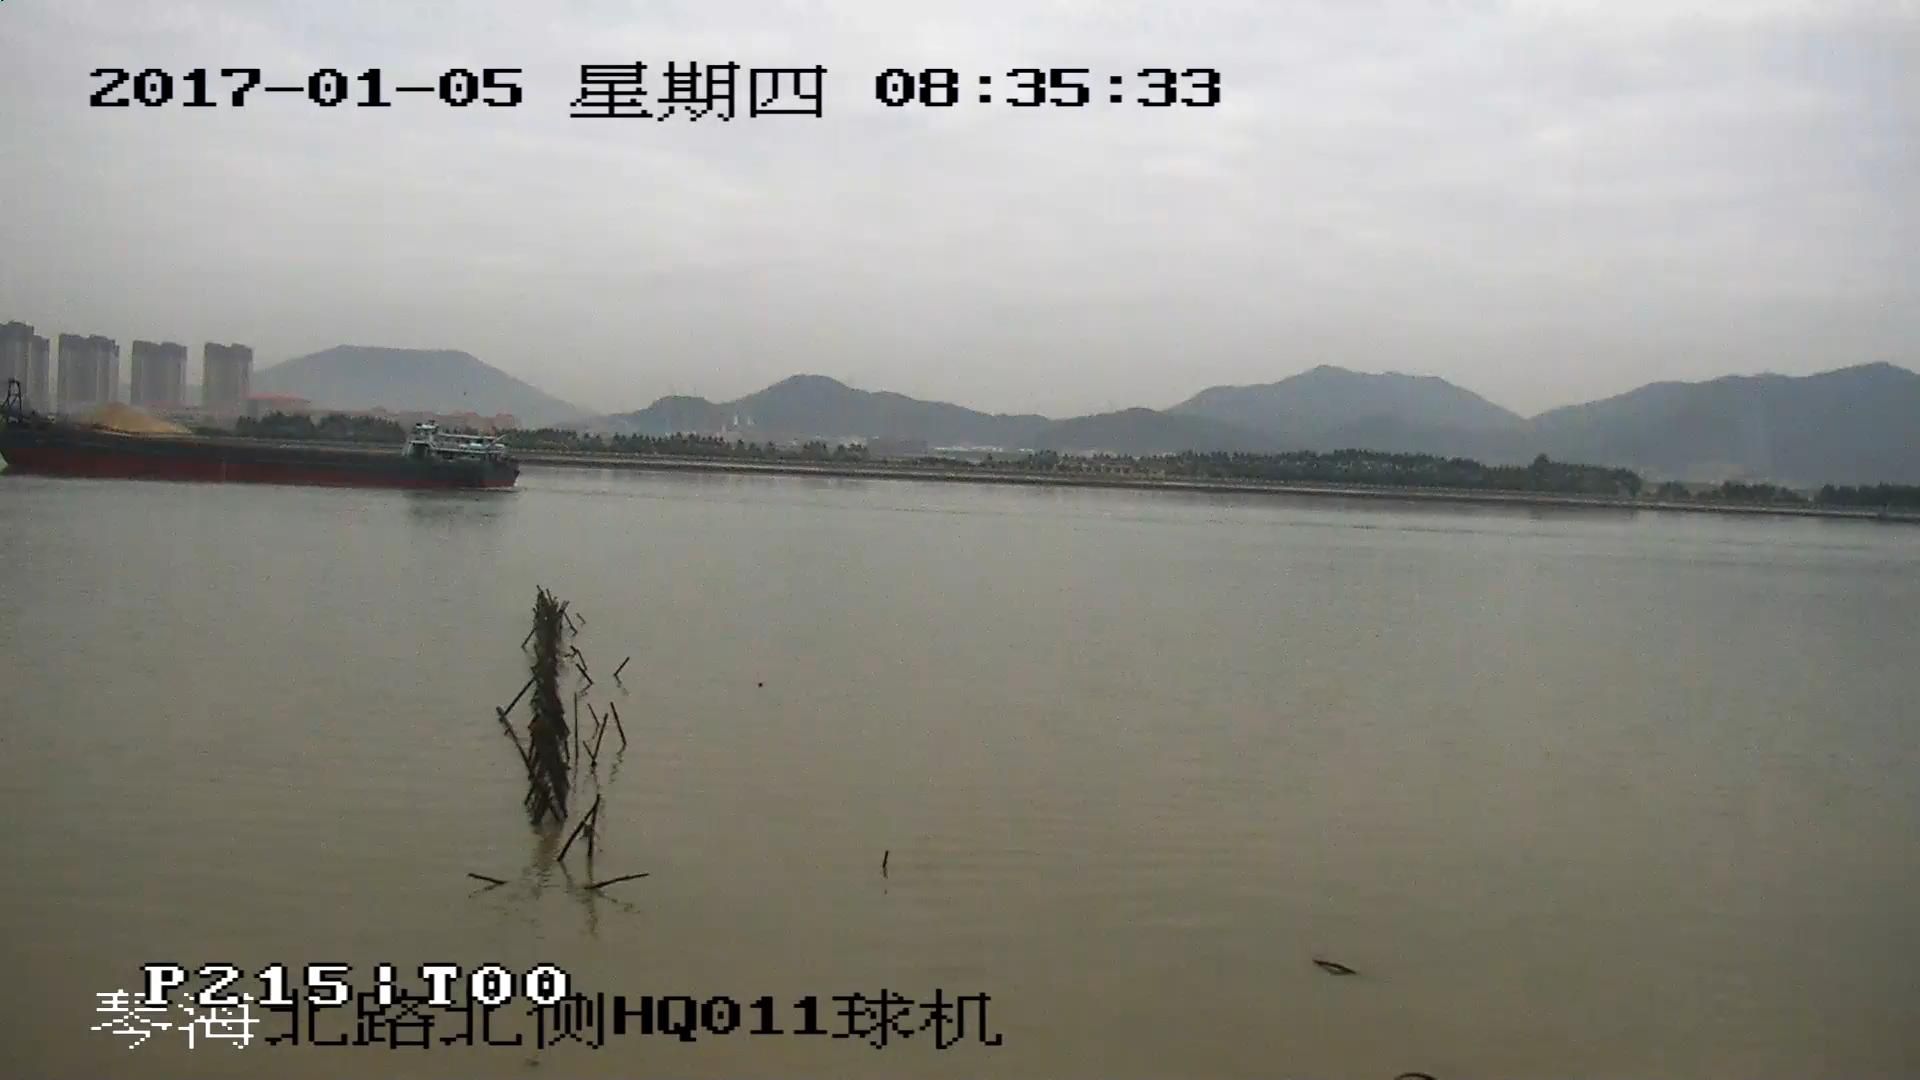bulk cargo carrier: (1, 383, 525, 489)
